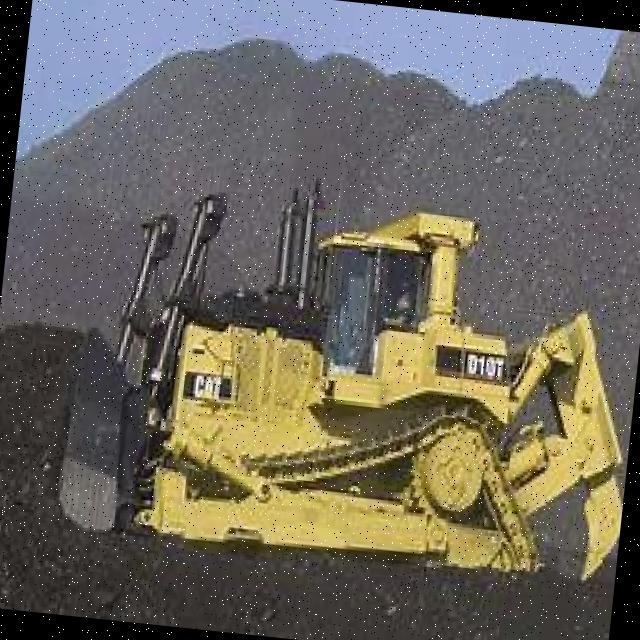Bulldozer: (40, 119, 640, 638)
